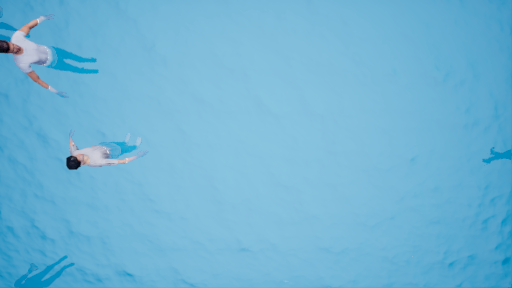person: (1, 14, 102, 101), (62, 127, 150, 172)
